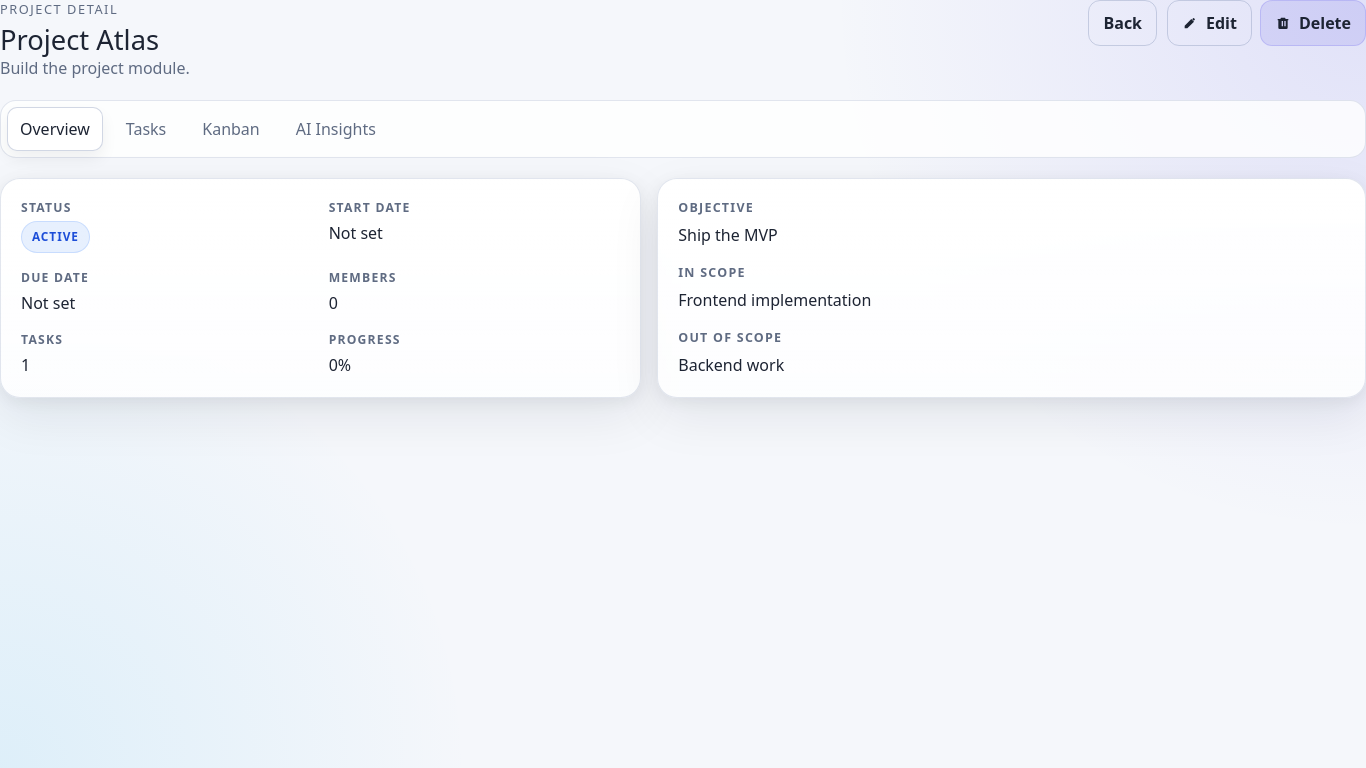
Test case: ProjectDetailPage › shows a success toast and returns to the projects route after deletion
Expected: the heading "Project Atlas" is shown, [0,21,159,58]
Click the button with aria-label "Delete project" at (1313, 23), box [1260,0,1365,46]
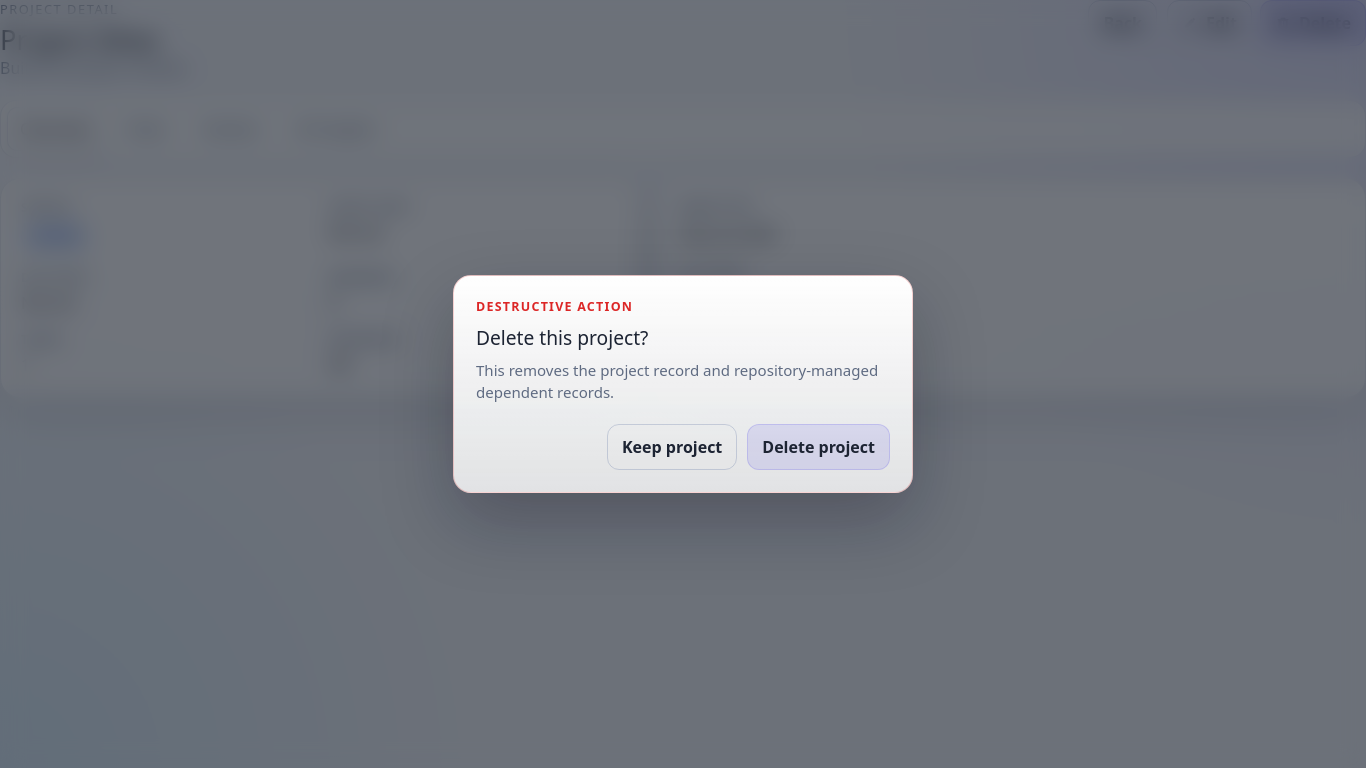
Click the button "Delete project" at (819, 447), box [747,424,890,470]
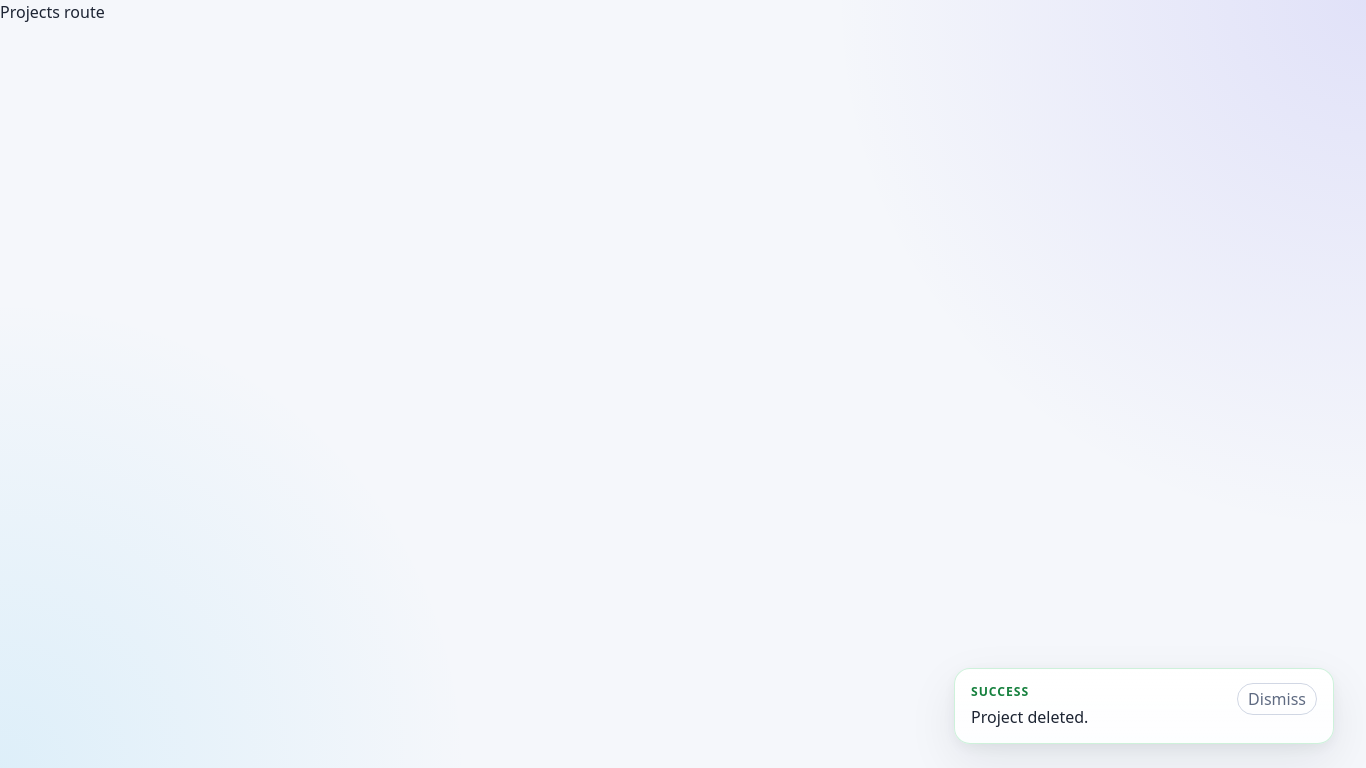
Now the text "Projects route" is shown, box [0,1,105,23]
Now the message shows "Project deleted.", box [971,706,1088,728]
